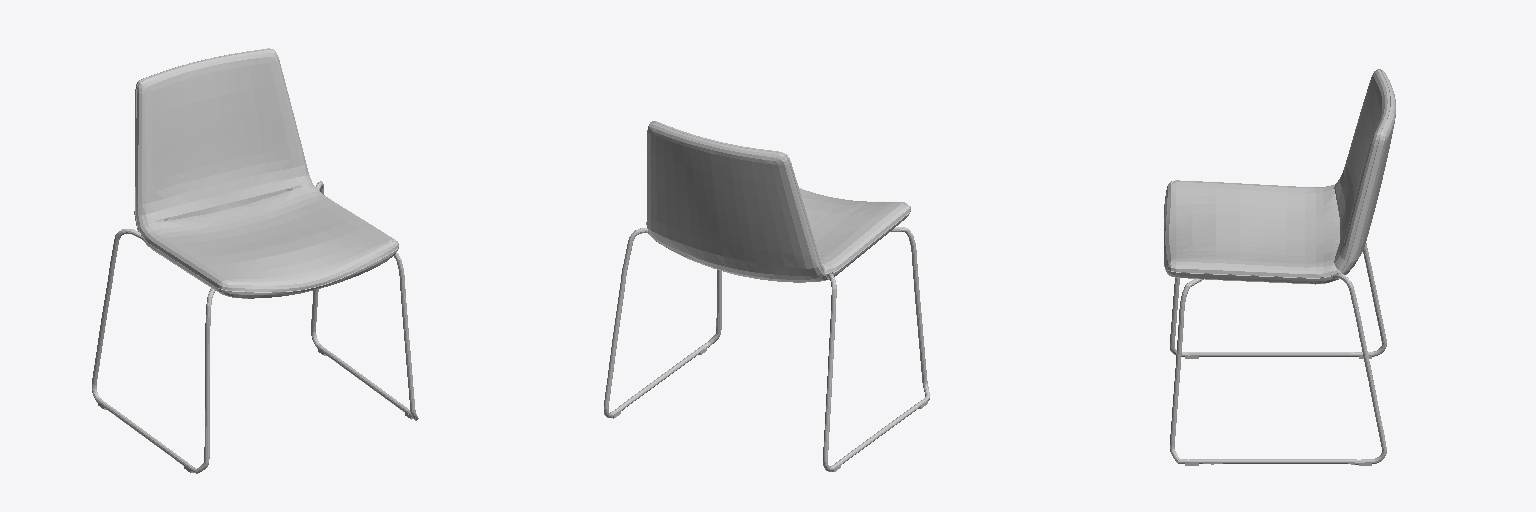
3 renders of one model, left to right at view 1: azimuth 30°, elevation 25°; view 2: azimuth 150°, elevation 25°; view 3: azimuth 270°, elevation 25°, orthographic.
Visible parts, largest first — view 1: CS48_F.lwo; view 2: CS48_F.lwo; view 3: CS48_F.lwo.
Boxes of the visible parts, x1,y1,x2,y2 form: CS48_F.lwo: [92, 48, 418, 473]; CS48_F.lwo: [604, 121, 929, 471]; CS48_F.lwo: [1164, 69, 1395, 465].
Bounding box in the file's own units: 0.5925 × 0.7816 × 0.5298.